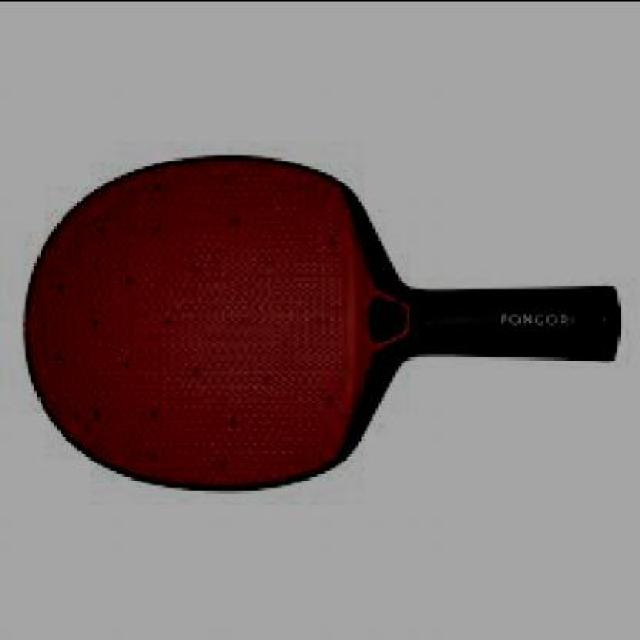table_tennis_racket: (16, 154, 401, 489)
